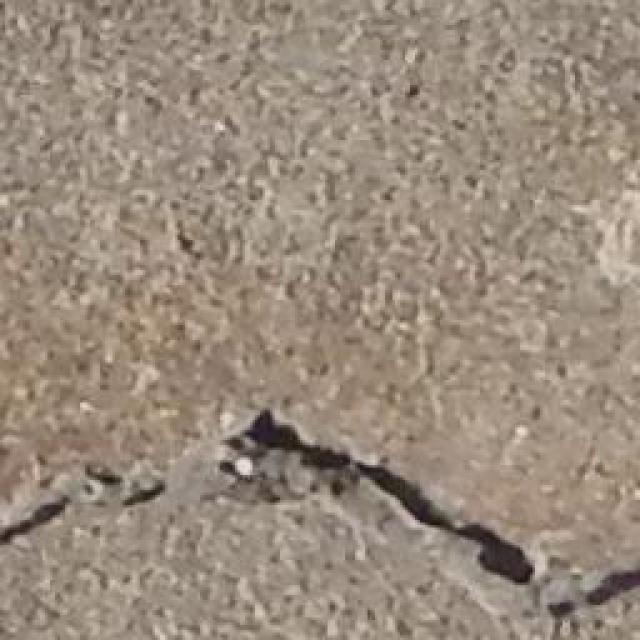concrete-crack: (219, 400, 543, 592), (2, 469, 169, 552), (588, 568, 640, 602), (548, 602, 575, 620)
